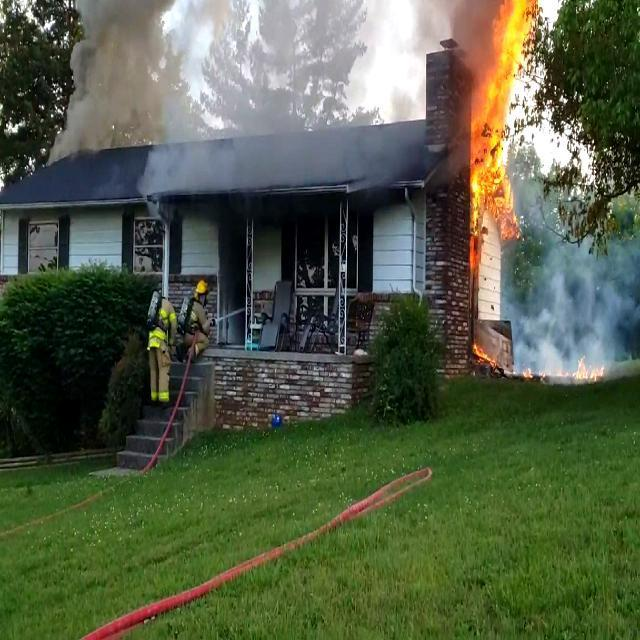Fire: (463, 0, 533, 278)
Smoke: (46, 0, 455, 162), (504, 161, 640, 382)
